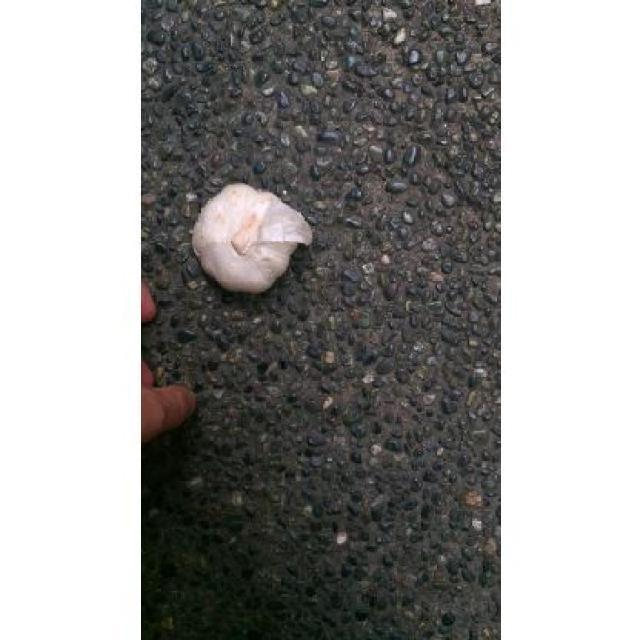garlic: (192, 184, 312, 293)
